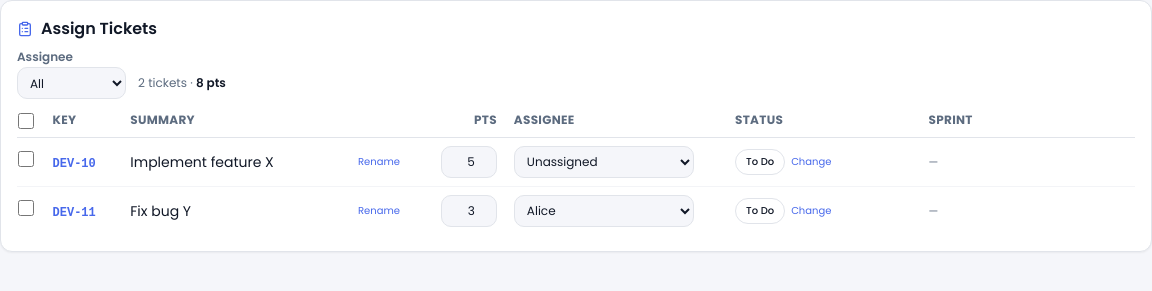
Test case: AssignmentList — v1.37 editable points › reverts the input when the write fails
Replace the text in the number field named "Story points for DEV-10" with "13" at (469, 162), box x1=441 y1=146 x2=497 y2=178
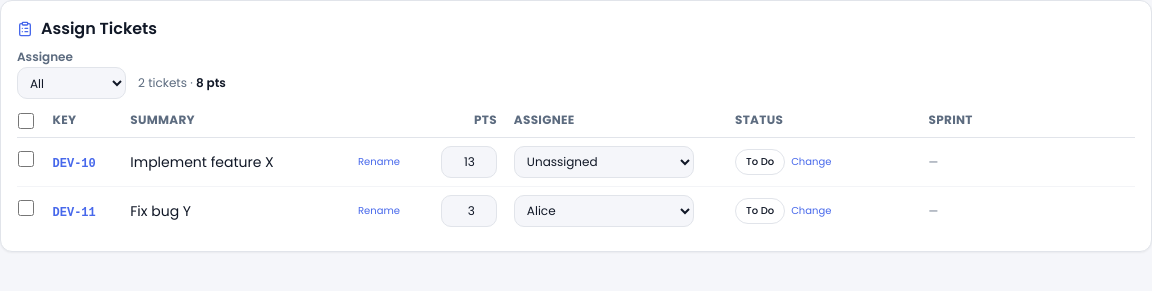
Leave the number field named "Story points for DEV-10", box x1=441 y1=146 x2=497 y2=178
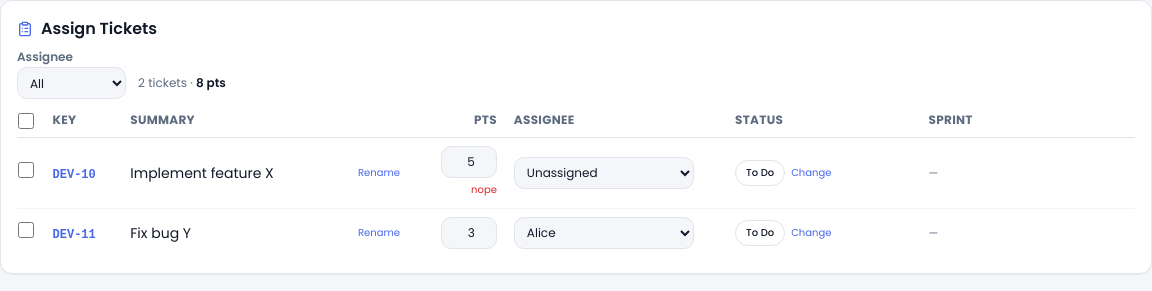
Now the number field named "Story points for DEV-10" holds "5", box x1=441 y1=146 x2=497 y2=178
